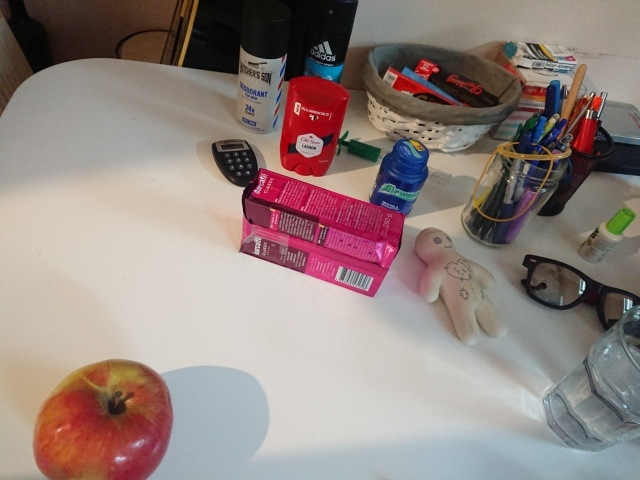Barcaffe Classic Original 225g: (236, 165, 407, 299)
